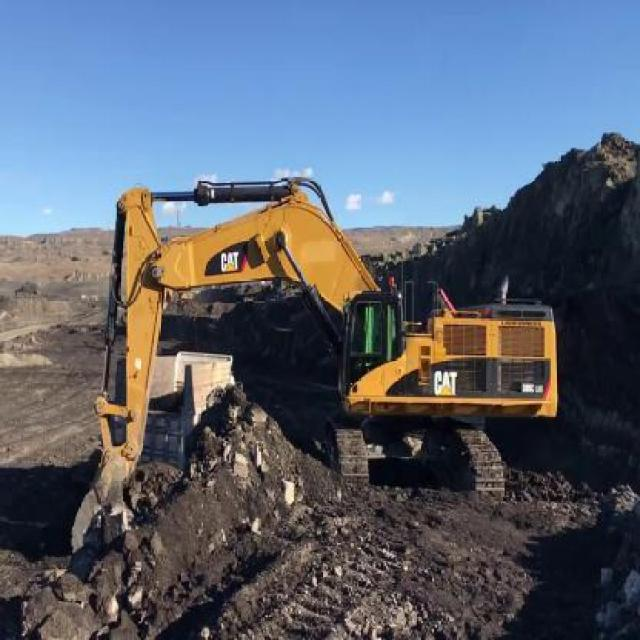Dump Truck: (142, 345, 233, 470)
Excavator: (69, 168, 560, 550)
